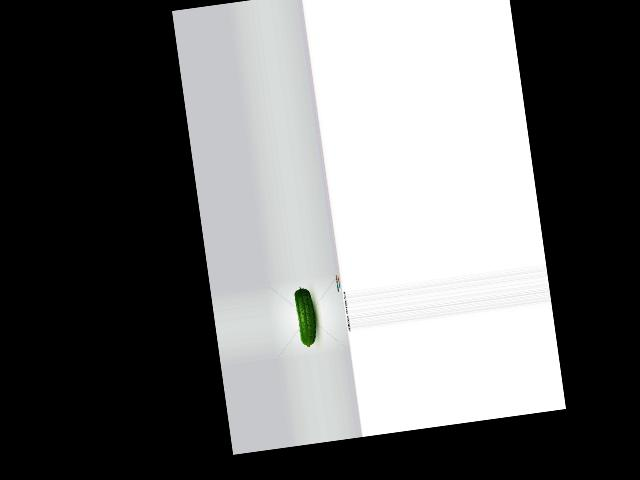cucumber: (293, 285, 319, 348)
